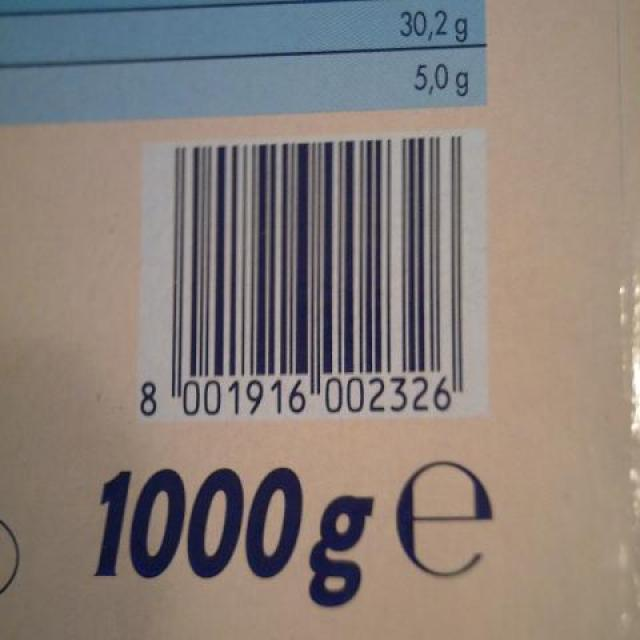Barcode: (137, 129, 488, 423)
